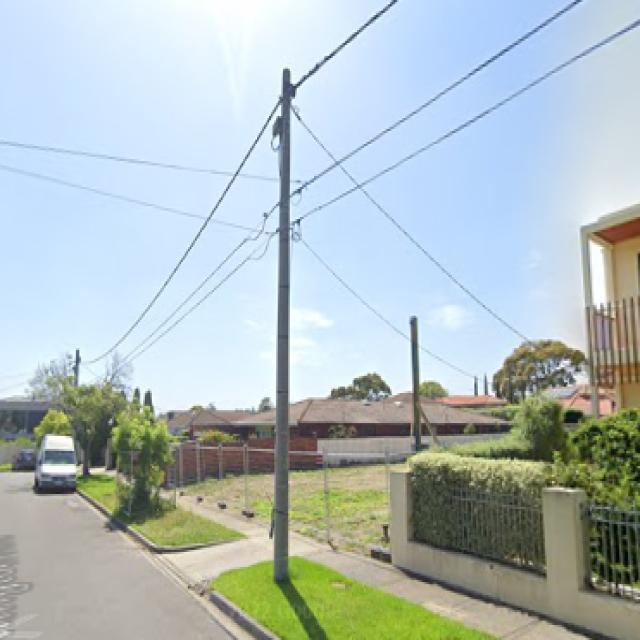concrete-pole: (272, 68, 292, 582)
timber-pole: (409, 315, 422, 452), (73, 348, 81, 382)
